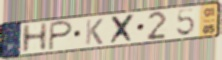2: (146, 10, 169, 42)
5: (174, 8, 196, 37)
H: (20, 21, 50, 55)
K: (84, 17, 105, 46)
P: (47, 19, 75, 52)
X: (109, 12, 137, 45)
